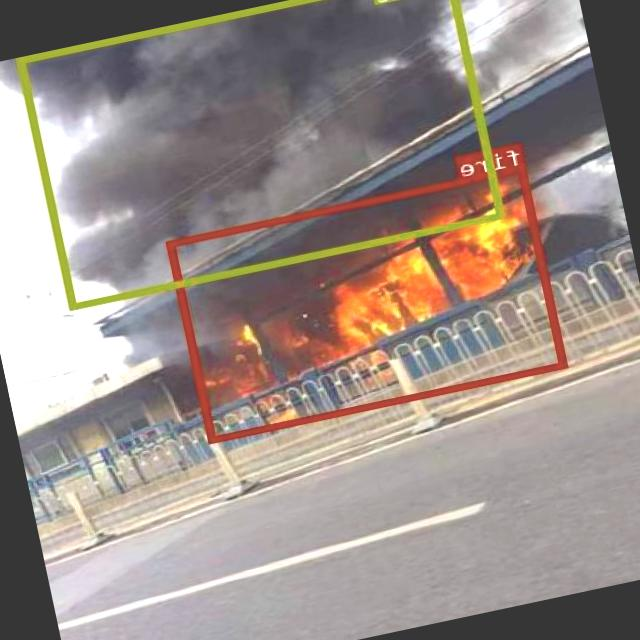fire: (166, 164, 568, 442)
smoke: (17, 0, 506, 307)
